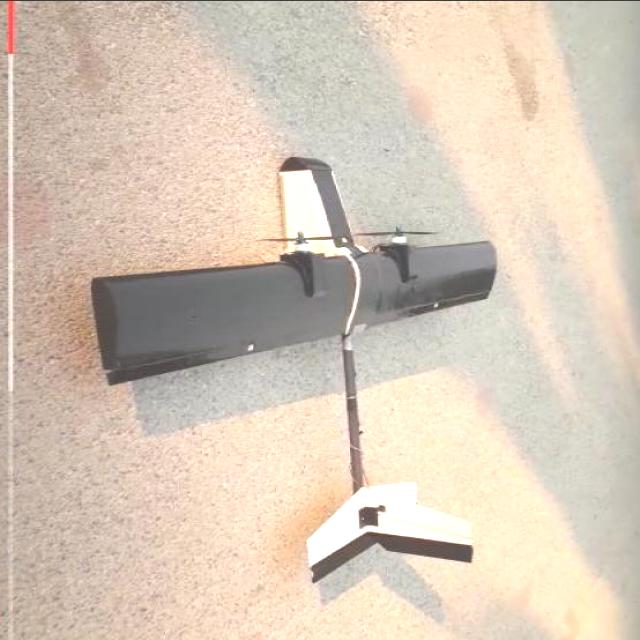plane: (91, 154, 500, 584)
